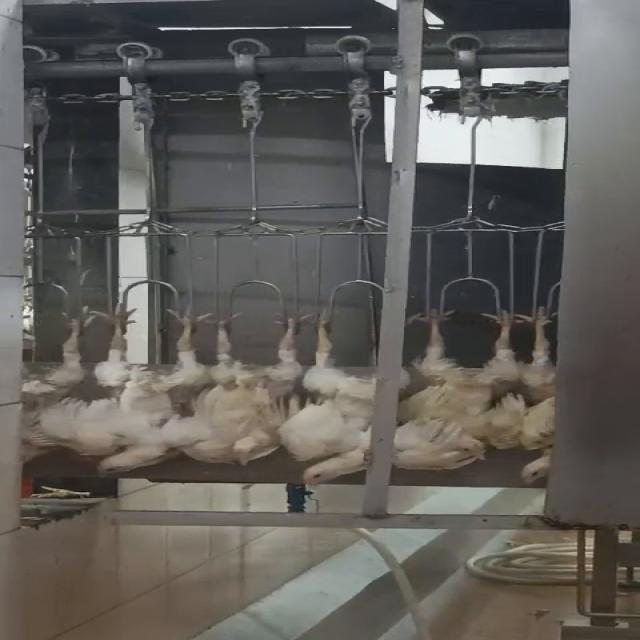chicken: (378, 308, 530, 472), (76, 298, 198, 482), (170, 308, 298, 468), (7, 293, 117, 467), (274, 313, 378, 488), (505, 304, 560, 487)
